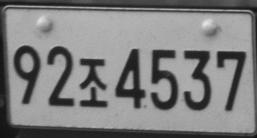2: (47, 45, 74, 107)
3: (183, 49, 212, 111)
4: (114, 48, 145, 109)
5: (150, 49, 179, 110)
7: (216, 50, 246, 111)
9: (12, 44, 42, 104)
조: (79, 57, 109, 108)
